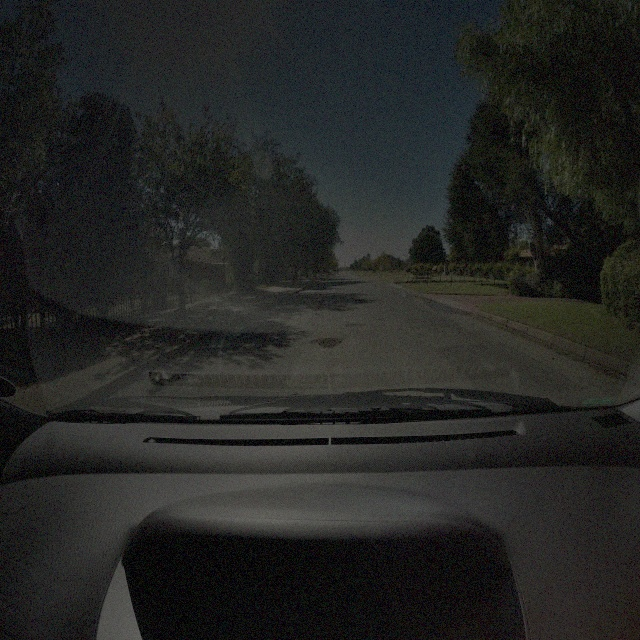pothole: (310, 335, 342, 349), (346, 320, 365, 328)
